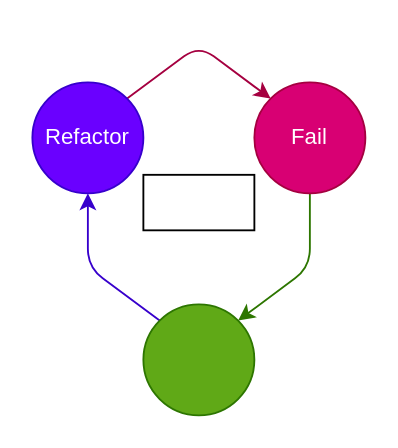
Some shapes in this 398 by 448 pixel diagram are drawn without their labels. Each missing label, with the box of its shape:
Pass: (142, 302, 254, 415)
TDD: (142, 173, 254, 230)
